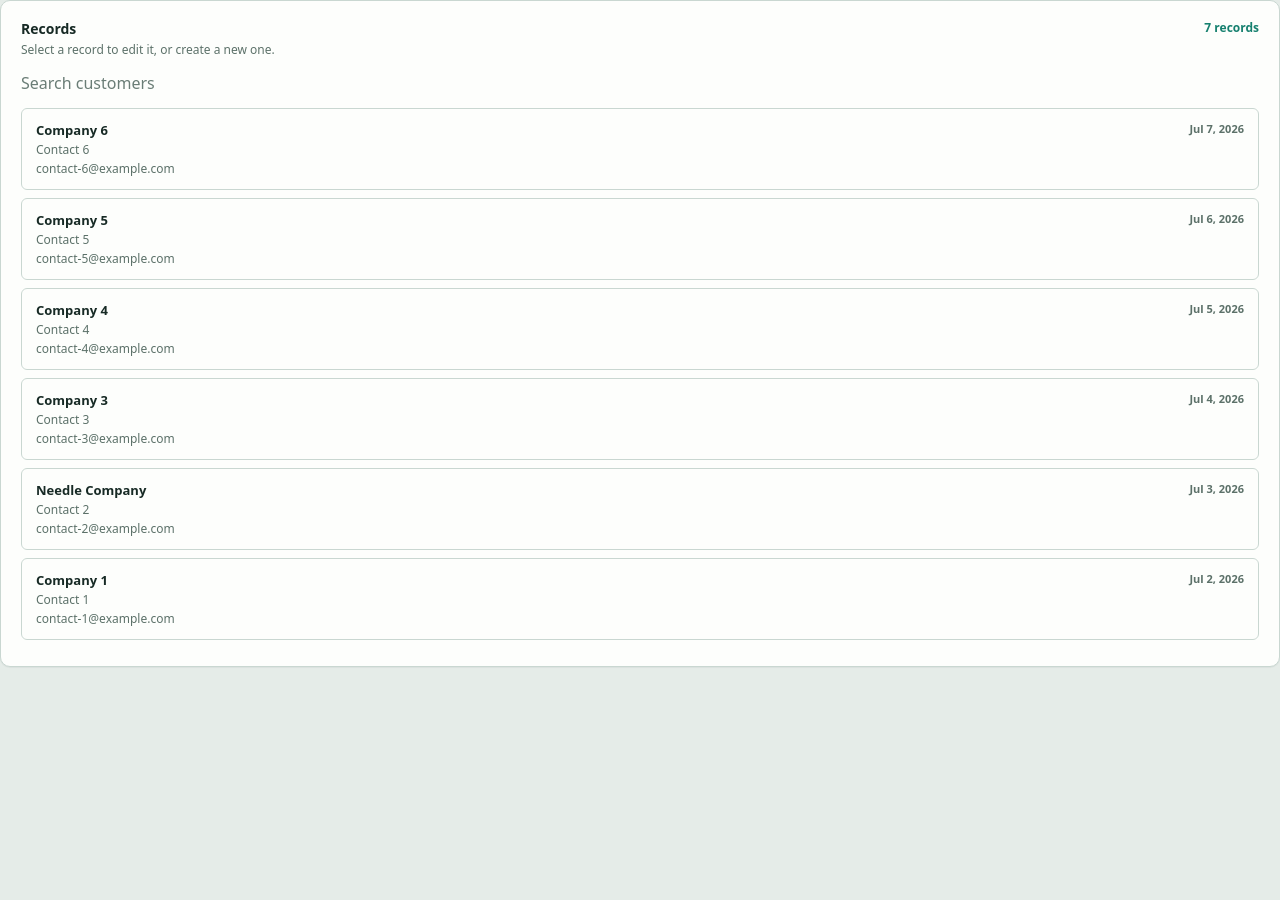
CustomerLibraryList › shows search only above six records, sorts by recent update, and filters results
The width and height of the screenshot is (1280, 900).
Check: the text "Company 6" is shown, box [36,121,108,139]
Type "needle" into the search field with placeholder "Search customers" at [640, 83], box [21,72,1259,94]
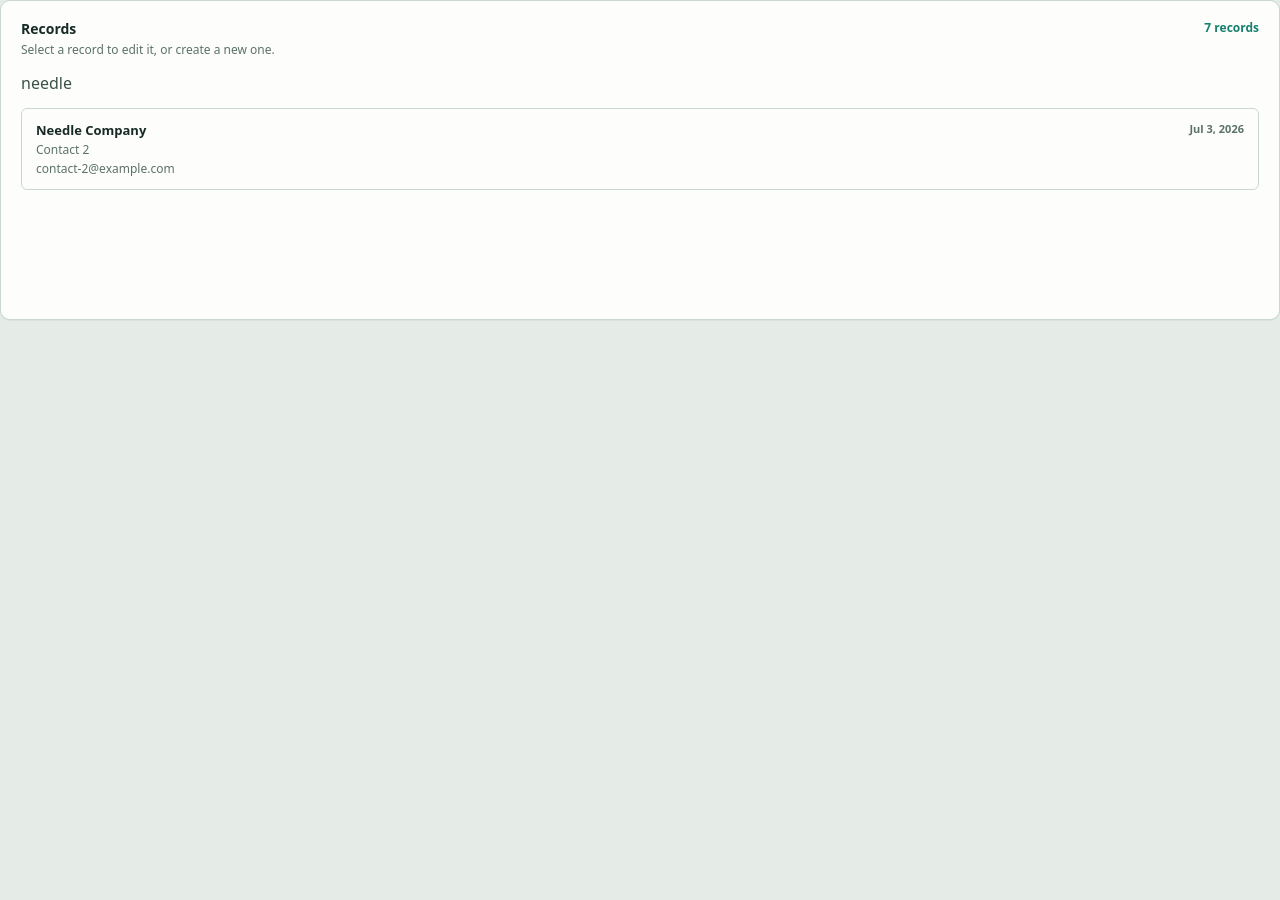
Check: the text "Needle Company" is shown, box [36,121,146,139]
Check: the number of buttons with class "record-card" is 1, box [21,108,1259,190]
